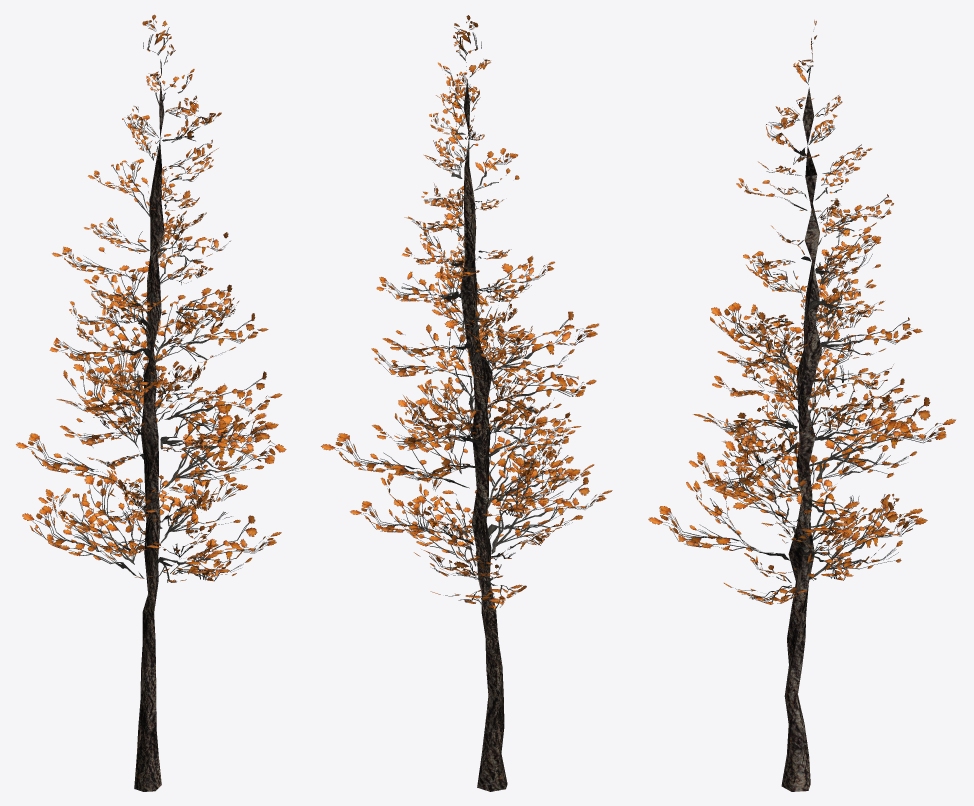
File: tree01-low.glb
3 views of the same model, side by side, from view 1: azimuth 30°, elevation 25°; view 2: azimuth 150°, elevation 25°; view 3: azimuth 270°, elevation 25° (orthographic).
Visible parts, largest first — view 1: Tree_Branches; view 2: Tree_Branches; view 3: Tree_Branches.
Part boxes in pixels (x1,y1,x2,y2): Tree_Branches: (16, 14, 286, 791); Tree_Branches: (321, 15, 612, 791); Tree_Branches: (648, 20, 955, 791).
Size of the model in its own units: 21816 by 62774 by 23010.
Materials: 1 (1 with a texture image).
